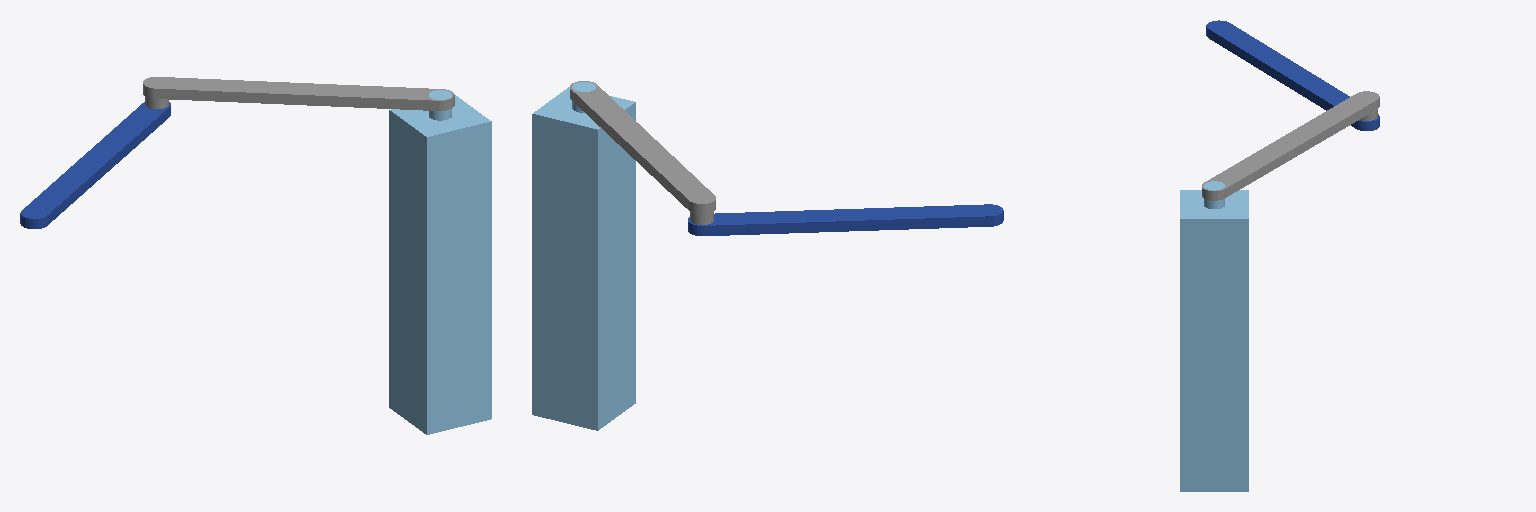
URDF robot description (onshape_to_robot):
<?xml version="1.0" ?>
<!-- Generated using onshape-to-robot -->
<!-- Onshape https://cad.onshape.com/documents/02830e503a1c2626d58e0780/w/62db7934caa01effe231f1a9/e/9d31039ea010abe028749d07 -->
<robot name="onshape_to_robot">
  <!-- Link base_mount_manipulator -->
  <link name="base_mount_manipulator">
    <inertial>
      <origin xyz="-4.36314e-19 2.47153e-17 0.553261" rpy="0 0 0"/>
      <mass value="542.696"/>
      <inertia ixx="58.2669" ixy="-1.00642e-16" ixz="4.10907e-16" iyy="58.2669" iyz="2.02826e-15" izz="5.62415"/>
    </inertial>
    <!-- Part base_mount_manipulator -->
    <visual>
      <origin xyz="0 0 0" rpy="0 -0 0"/>
      <geometry>
        <mesh filename="package://assets/base_mount_manipulator.stl"/>
      </geometry>
      <material name="base_mount_manipulator_material">
        <color rgba="0.615686 0.811765 0.929412 1"/>
      </material>
    </visual>
    <collision>
      <origin xyz="0 0 0" rpy="0 -0 0"/>
      <geometry>
        <mesh filename="package://assets/base_mount_manipulator.stl"/>
      </geometry>
    </collision>
  </link>
  <!-- Link link1 -->
  <link name="link1">
    <inertial>
      <origin xyz="-0.445272 -0.321529 0.0251674" rpy="0 0 0"/>
      <mass value="10.8153"/>
      <inertia ixx="0.344736" ixy="-0.459546" ixz="0.0216138" iyy="0.649304" iyz="0.0156072" izz="0.983505"/>
    </inertial>
    <!-- Part link1 -->
    <visual>
      <origin xyz="-4.8473e-18 8.03622e-18 1.21437" rpy="3.14159 -1.21474e-25 0.625402"/>
      <geometry>
        <mesh filename="package://assets/link1.stl"/>
      </geometry>
      <material name="link1_material">
        <color rgba="0.647059 0.647059 0.647059 1"/>
      </material>
    </visual>
    <collision>
      <origin xyz="-4.8473e-18 8.03622e-18 1.21437" rpy="3.14159 -1.21474e-25 0.625402"/>
      <geometry>
        <mesh filename="package://assets/link1.stl"/>
      </geometry>
    </collision>
  </link>
  <!-- Link link2 -->
  <link name="link2">
    <inertial>
      <origin xyz="-0.502678 7.20289e-17 -0.0190625" rpy="0 0 0"/>
      <mass value="9.69735"/>
      <inertia ixx="0.00835887" ixy="4.24646e-17" ixz="-1.19944e-44" iyy="0.773334" iyz="-2.21936e-42" izz="0.779344"/>
    </inertial>
    <!-- Part link2 -->
    <visual>
      <origin xyz="0.953 0 1.05812" rpy="3.14159 1.43493e-42 -5.55112e-17"/>
      <geometry>
        <mesh filename="package://assets/link2.stl"/>
      </geometry>
      <material name="link2_material">
        <color rgba="0.231373 0.380392 0.705882 1"/>
      </material>
    </visual>
    <collision>
      <origin xyz="0.953 0 1.05812" rpy="3.14159 1.43493e-42 -5.55112e-17"/>
      <geometry>
        <mesh filename="package://assets/link2.stl"/>
      </geometry>
    </collision>
  </link>
  <!-- Joint from link1 to link2 -->
  <joint name="jt_link1_link2" type="revolute">
    <origin xyz="-0.772623 -0.557909 0.118125" rpy="2.34407e-26 1.21343e-26 -0.602725"/>
    <parent link="link1"/>
    <child link="link2"/>
    <axis xyz="0 0 1"/>
    <limit effort="10" velocity="10" lower="-0.342669" upper="2.79892"/>
  </joint>
  <!-- Joint from base_mount_manipulator to link1 -->
  <joint name="jt_mount_link1" type="revolute">
    <origin xyz="0 2.44929e-18 1.17625" rpy="3.14159 -0 0"/>
    <parent link="base_mount_manipulator"/>
    <child link="link1"/>
    <axis xyz="0 0 1"/>
    <limit effort="10" velocity="10" lower="-2.1962" upper="0.945394"/>
  </joint>
</robot>

--- Render facts (derived) ---
3 views of the same robot in one strip: view 1: azimuth 30°, elevation 25°; view 2: azimuth 150°, elevation 25°; view 3: azimuth 270°, elevation 25° (orthographic).
Model onshape_to_robot with 3 links and 2 joints (2 revolute), rooted at base_mount_manipulator, posed every joint at zero.
Visible links, largest first — view 1: base_mount_manipulator, link1, link2; view 2: base_mount_manipulator, link2, link1; view 3: base_mount_manipulator, link1, link2.
Boxes of the visible links, left/top/right/bottom form: base_mount_manipulator: left=389, top=90, right=491, bottom=434; link1: left=143, top=77, right=454, bottom=110; link2: left=20, top=102, right=170, bottom=228; base_mount_manipulator: left=532, top=82, right=635, bottom=430; link2: left=688, top=204, right=1003, bottom=235; link1: left=570, top=81, right=715, bottom=224; base_mount_manipulator: left=1180, top=181, right=1248, bottom=491; link1: left=1202, top=91, right=1379, bottom=200; link2: left=1206, top=20, right=1379, bottom=130.
Size in the robot's own frame: 1.73 by 0.7299 by 1.18 metres.
3 mesh visuals loaded from 3 distinct referenced files (3 binary STL).